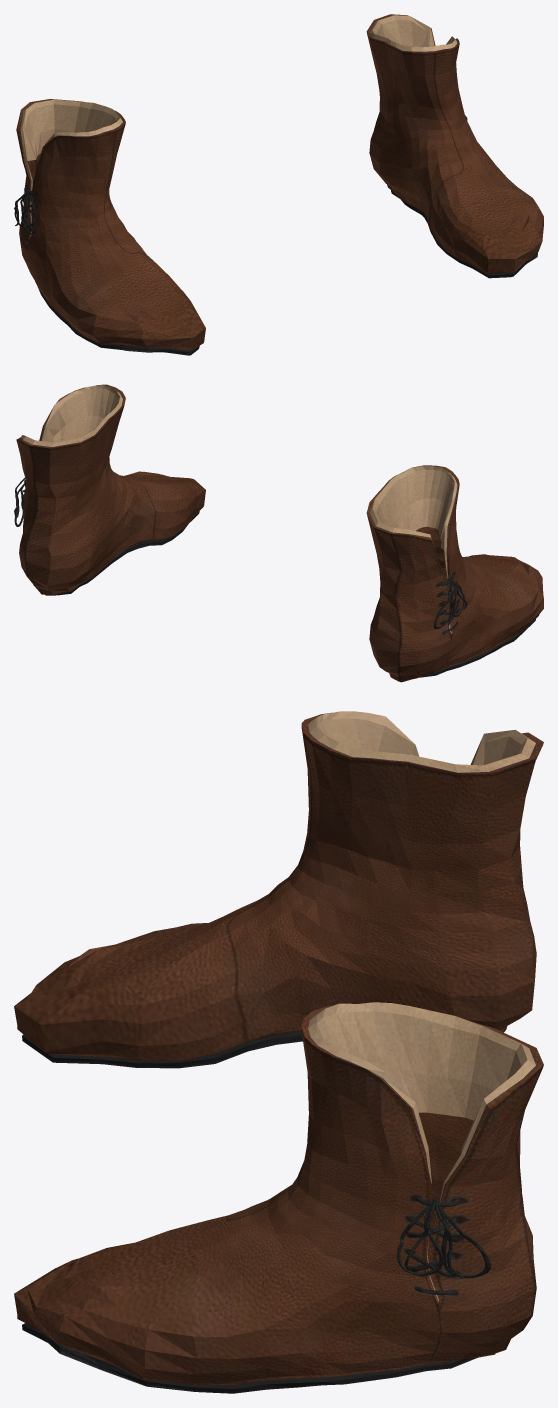
File: mhw_punkduck_medieval_boots.glb
3 views of the same model, one above another, from view 1: azimuth 30°, elevation 25°; view 2: azimuth 150°, elevation 25°; view 3: azimuth 270°, elevation 25° (orthographic). The views are drawn at different scales.
Visible parts, largest first — view 1: mhw_punkduck_medieval_boots; view 2: mhw_punkduck_medieval_boots; view 3: mhw_punkduck_medieval_boots.
Boxes of the visible parts, x1,y1,x2,y2 form: mhw_punkduck_medieval_boots: (14, 14, 543, 355); mhw_punkduck_medieval_boots: (14, 384, 543, 682); mhw_punkduck_medieval_boots: (14, 711, 543, 1393).
Bounding box in the file's own units: 0.542 × 0.2025 × 0.2976.
Materials: 1 (1 with a texture image).
